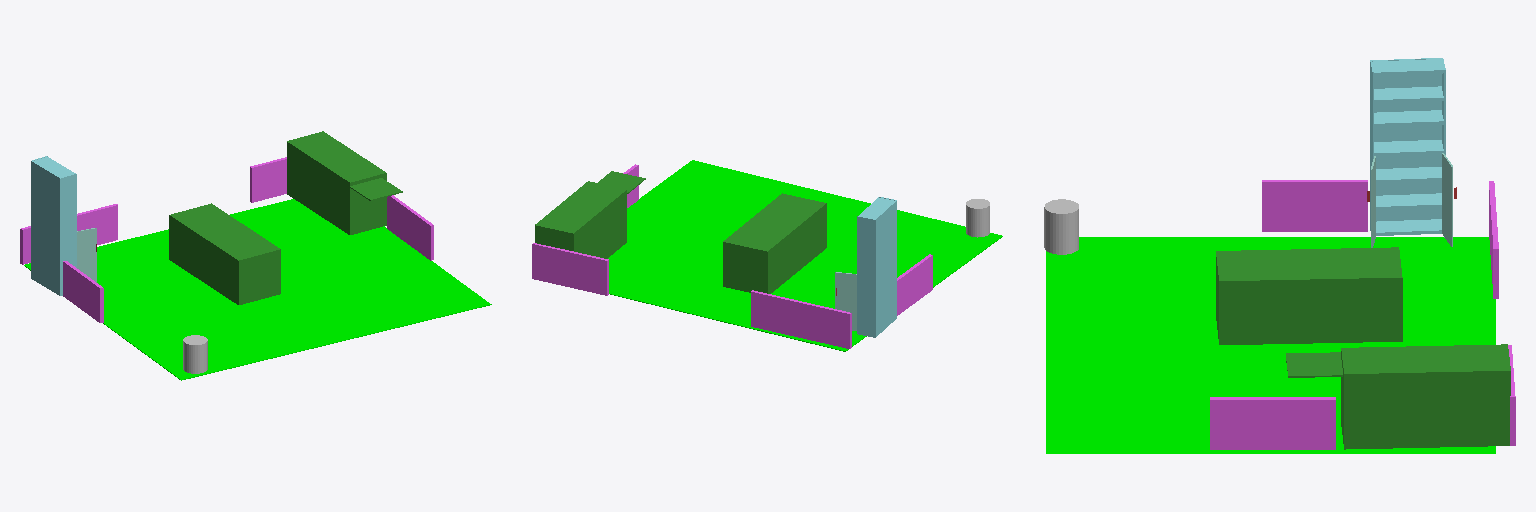
--- Facts derived from the render (not from the file) ---
Views: 3 orthographic renders of the robot side by side, from view 1: azimuth 30°, elevation 25°; view 2: azimuth 150°, elevation 25°; view 3: azimuth 270°, elevation 25°.
Model iai-kitchen with 43 links and 42 joints (3 revolute, 39 fixed), rooted at urdf_main, posed all joints at 0.
Visible links, largest first — view 1: iai_kitchen:kitchen:room_center_link, dinner_table:dinner_table:table_center, kitchen_counter:kitchen_counter:table_center, shelf_hohc:kitchen_cabinet:shelf_back, wall_2_link, wall_3_link, wall_4_link, shelf_hohc:kitchen_cabinet:shelf_left_side, wall_1_link, shelf_hohc:kitchen_cabinet:shelf_door_left, trashcan:trashcan:trashcan_center, dishwasher_table:d_table:table_center; view 2: iai_kitchen:kitchen:room_center_link, dinner_table:dinner_table:table_center, kitchen_counter:kitchen_counter:table_center, wall_4_link, wall_1_link, shelf_hohc:kitchen_cabinet:shelf_back, shelf_hohc:kitchen_cabinet:shelf_right_side, wall_3_link, shelf_hohc:kitchen_cabinet:shelf_door_right, trashcan:trashcan:trashcan_center, dishwasher_table:d_table:table_center; view 3: iai_kitchen:kitchen:room_center_link, dinner_table:dinner_table:table_center, kitchen_counter:kitchen_counter:table_center, wall_2_link, wall_3_link, shelf_hohc:kitchen_cabinet:shelf_back, trashcan:trashcan:trashcan_center, dishwasher_table:d_table:table_center, shelf_hohc:kitchen_cabinet:shelf_floor_6, shelf_hohc:kitchen_cabinet:shelf_floor_4, shelf_hohc:kitchen_cabinet:shelf_floor_3, shelf_hohc:kitchen_cabinet:shelf_floor_5 (+5 smaller).
Boxes of the visible links, x1,y1,x2,y2 form: iai_kitchen:kitchen:room_center_link: (24,199,491,380); dinner_table:dinner_table:table_center: (169,203,280,304); kitchen_counter:kitchen_counter:table_center: (287,131,386,234); shelf_hohc:kitchen_cabinet:shelf_back: (31,161,60,295); wall_2_link: (387,195,433,260); wall_3_link: (63,261,103,322); wall_4_link: (20,204,117,264); shelf_hohc:kitchen_cabinet:shelf_left_side: (61,173,76,295); wall_1_link: (250,157,286,202); shelf_hohc:kitchen_cabinet:shelf_door_left: (77,228,96,282); trashcan:trashcan:trashcan_center: (183,335,207,373); dishwasher_table:d_table:table_center: (350,178,402,200); iai_kitchen:kitchen:room_center_link: (608,160,1002,351); dinner_table:dinner_table:table_center: (723,193,826,293); kitchen_counter:kitchen_counter:table_center: (535,181,626,258); wall_4_link: (751,290,851,348); wall_1_link: (532,243,608,295); shelf_hohc:kitchen_cabinet:shelf_back: (874,200,896,337); shelf_hohc:kitchen_cabinet:shelf_right_side: (857,216,874,337); wall_3_link: (897,254,932,315); shelf_hohc:kitchen_cabinet:shelf_door_right: (835,272,856,330); trashcan:trashcan:trashcan_center: (966,199,989,237); dishwasher_table:d_table:table_center: (598,171,645,193); iai_kitchen:kitchen:room_center_link: (1046,237,1495,453); dinner_table:dinner_table:table_center: (1216,247,1402,344); kitchen_counter:kitchen_counter:table_center: (1341,344,1510,449); wall_2_link: (1210,397,1335,449); wall_3_link: (1262,180,1367,231); shelf_hohc:kitchen_cabinet:shelf_back: (1370,58,1441,221); trashcan:trashcan:trashcan_center: (1044,199,1078,254); dishwasher_table:d_table:table_center: (1286,352,1342,377); shelf_hohc:kitchen_cabinet:shelf_floor_6: (1370,59,1445,75); shelf_hohc:kitchen_cabinet:shelf_floor_4: (1370,110,1445,126); shelf_hohc:kitchen_cabinet:shelf_floor_3: (1370,140,1445,156); shelf_hohc:kitchen_cabinet:shelf_floor_5: (1370,86,1443,103).
Size in the robot's own frame: 5.77 by 5.13 by 2.08 metres.
0 mesh visuals loaded from 3 distinct referenced files (none loaded); not drawn: 3 (reference not matched to a file when rendering).

The robot description file, URDF, robot "iai-kitchen":
<?xml version="1.0" ?>
<robot name="iai-kitchen" version="1.0">
  <material name="table_grey">
    <color rgba="0.255 0.62 0.223 1.0"/>
  </material>
  <material name="round_table_grey">
    <color rgba="0.8 0.8 0.8 1.0"/>
  </material>
  <material name="wall_pink">
    <color rgba="0.95 0.43 0.96 1.0"/>
  </material>
  <material name="shelf_blue">
    <color rgba="0.59 0.88 0.9 1.0"/>
  </material>
  <material name="shelf_door_green">
    <color rgba="0.64 0.87 0.82 1.0"/>
  </material>
  <material name="shelf_openable_handle_red">
    <color rgba="0.74 0.25 0.25 1.0"/>
  </material>
  <material name="shelf_hohc_handle_red">
    <color rgba="0.74 0.25 0.25 1.0"/>
  </material>
  <material name="door_green">
    <color rgba="0.0 0.31 0.22 1.0"/>
  </material>
  <material name="hinge_red">
    <color rgba="0.74 0.25 0.25 1.0"/>
  </material>
  <material name="handle_blue">
    <color rgba="0.3 0.5 0.78 1.0"/>
  </material>
  <material name="bucket_grey">
    <color rgba="0.8 0.8 0.8 1.0"/>
  </material>
  <material name="white">
    <color rgba="1.0 1.0 1.0 1.0"/>
  </material>
  <material name="orange">
    <color rgba="1.0 0.7 0.0 1.0"/>
  </material>
  <material name="handle_white">
    <color rgba="1.0 1.0 1.0 1.0"/>
  </material>
  <material name="bottom_white">
    <color rgba="1.0 1.0 1.0 1.0"/>
  </material>
  <material name="frame_wood">
    <color rgba="0.68 0.63 0.47 1.0"/>
  </material>
  <material name="handle_grey">
    <color rgba="0.7 0.7 0.7 1.0"/>
  </material>
  <material name="dishwasher_table_color">
    <color rgba="0.255 0.62 0.223 1.0"/>
  </material>
  <material name="dishwasher_robocup_table_color">
    <color rgba="0.255 0.62 0.223 1.0"/>
  </material>
  <material name="color_grey">
    <color rgba="0.8 0.8 0.8 1.0"/>
  </material>
  <material name="color_red">
    <color rgba="1.0 0.0 0.0 1.0"/>
  </material>
  <material name="color_blue">
    <color rgba="0.0 0.0 1.0 1.0"/>
  </material>
  <material name="simple_couch_color_grey">
    <color rgba="0.8 0.8 0.8 1.0"/>
  </material>
  <material name="simple_couch_color_red">
    <color rgba="1.0 0.0 0.0 1.0"/>
  </material>
  <material name="simple_couch_color_blue">
    <color rgba="0.0 0.0 1.0 1.0"/>
  </material>
  <material name="trashcan_color">
    <color rgba="0.8 0.8 0.8 1.0"/>
  </material>
  <material name="chair_color">
    <color rgba="0.0 0.0 0.5 1.0"/>
  </material>
  <material name="coathanger_color">
    <color rgba="0.255 0.62 0.223 1.0"/>
  </material>
  <material name="lamp_color">
    <color rgba="0.8 0.8 0.8 1.0"/>
  </material>
  <link name="dinner_table:dinner_table:table_center">
    <inertial>
      <origin xyz="0.0 0.0 0.0" rpy="0.0 0.0 0.0"/>
      <mass value="1.0"/>
      <inertia ixx="0.1" ixy="0.0" ixz="0.0" iyy="0.1" iyz="0.0" izz="0.1"/>
    </inertial>
    <visual>
      <origin xyz="0.0 0.0 -0.385" rpy="0.0 0.0 0.0"/>
      <geometry>
        <box size="0.782 2.0 0.77"/>
      </geometry>
      <material name="table_grey"/>
    </visual>
    <collision>
      <origin xyz="0.0 0.0 -0.385" rpy="0.0 0.0 0.0"/>
      <geometry>
        <box size="0.782 2.0 0.77"/>
      </geometry>
    </collision>
  </link>
  <link name="dinner_table:dinner_table:table_origin"/>
  <link name="dinner_table:dinner_table:table_front_edge_center"/>
  <joint name="dinner_table:dinner_table:table_origin_joint" type="fixed">
    <origin xyz="8.1 5.73 0.0" rpy="0.0 0.0 3.189"/>
    <parent link="urdf_offset"/>
    <child link="dinner_table:dinner_table:table_origin"/>
  </joint>
  <joint name="dinner_table:dinner_table:center_joint" type="fixed">
    <origin xyz="0.391 1.0 0.77" rpy="0.0 0.0 0.0"/>
    <parent link="dinner_table:dinner_table:table_origin"/>
    <child link="dinner_table:dinner_table:table_center"/>
  </joint>
  <joint name="dinner_table:dinner_table:table_front_edge_center_joint" type="fixed">
    <origin xyz="0.0 1.0 0.77" rpy="0.0 0.0 0.0"/>
    <parent link="dinner_table:dinner_table:table_origin"/>
    <child link="dinner_table:dinner_table:table_front_edge_center"/>
  </joint>
  <link name="kitchen_counter:kitchen_counter:table_center">
    <inertial>
      <origin xyz="0.0 0.0 0.0" rpy="0.0 0.0 0.0"/>
      <mass value="1.0"/>
      <inertia ixx="0.1" ixy="0.0" ixz="0.0" iyy="0.1" iyz="0.0" izz="0.1"/>
    </inertial>
    <visual>
      <origin xyz="0.0 0.0 -0.4525" rpy="0.0 0.0 0.0"/>
      <geometry>
        <box size="0.68 1.82 0.905"/>
      </geometry>
      <material name="table_grey"/>
    </visual>
    <collision>
      <origin xyz="0.0 0.0 -0.4525" rpy="0.0 0.0 0.0"/>
      <geometry>
        <box size="0.68 1.82 0.905"/>
      </geometry>
    </collision>
  </link>
  <link name="kitchen_counter:kitchen_counter:table_origin"/>
  <link name="kitchen_counter:kitchen_counter:table_front_edge_center"/>
  <joint name="kitchen_counter:kitchen_counter:table_origin_joint" type="fixed">
    <origin xyz="10.2 5.06 0.0" rpy="0.0 0.0 0.05"/>
    <parent link="urdf_offset"/>
    <child link="kitchen_counter:kitchen_counter:table_origin"/>
  </joint>
  <joint name="kitchen_counter:kitchen_counter:center_joint" type="fixed">
    <origin xyz="0.34 0.91 0.905" rpy="0.0 0.0 0.0"/>
    <parent link="kitchen_counter:kitchen_counter:table_origin"/>
    <child link="kitchen_counter:kitchen_counter:table_center"/>
  </joint>
  <joint name="kitchen_counter:kitchen_counter:table_front_edge_center_joint" type="fixed">
    <origin xyz="0.0 0.91 0.905" rpy="0.0 0.0 0.0"/>
    <parent link="kitchen_counter:kitchen_counter:table_origin"/>
    <child link="kitchen_counter:kitchen_counter:table_front_edge_center"/>
  </joint>
  <joint name="wall_1_center_joint" type="fixed">
    <origin xyz="10.14 6.91 0.3" rpy="0 0 0"/>
    <parent link="urdf_offset"/>
    <child link="wall_1_link"/>
  </joint>
  <link name="wall_1_link">
    <inertial>
      <origin xyz="0.0 0.0 0.0" rpy="0.0 0.0 0.0"/>
      <mass value="1.0"/>
      <inertia ixx="0.1" ixy="0.0" ixz="0.0" iyy="0.1" iyz="0.0" izz="0.1"/>
    </inertial>
    <visual>
      <origin xyz="0.0 0.0 0.0" rpy="0.0 0.0 0.03029375991877435"/>
      <geometry>
        <box size="1.3206059215375345 0.06 0.6"/>
      </geometry>
      <material name="wall_pink"/>
    </visual>
    <collision>
      <origin xyz="0.0 0.0 0.0" rpy="0.0 0.0 0.03029375991877435"/>
      <geometry>
        <box size="1.3206059215375345 0.06 0.6"/>
      </geometry>
    </collision>
  </link>
  <joint name="wall_2_center_joint" type="fixed">
    <origin xyz="10.85 4.3149999999999995 0.3" rpy="0 0 0"/>
    <parent link="urdf_offset"/>
    <child link="wall_2_link"/>
  </joint>
  <link name="wall_2_link">
    <inertial>
      <origin xyz="0.0 0.0 0.0" rpy="0.0 0.0 0.0"/>
      <mass value="1.0"/>
      <inertia ixx="0.1" ixy="0.0" ixz="0.0" iyy="0.1" iyz="0.0" izz="0.1"/>
    </inertial>
    <visual>
      <origin xyz="0.0 0.0 0.0" rpy="0.0 0.0 1.5707963267948966"/>
      <geometry>
        <box size="1.37 0.06 0.6"/>
      </geometry>
      <material name="wall_pink"/>
    </visual>
    <collision>
      <origin xyz="0.0 0.0 0.0" rpy="0.0 0.0 1.5707963267948966"/>
      <geometry>
        <box size="1.37 0.06 0.6"/>
      </geometry>
    </collision>
  </link>
  <joint name="wall_3_center_joint" type="fixed">
    <origin xyz="5.25 4.775 0.3" rpy="0 0 0"/>
    <parent link="urdf_offset"/>
    <child link="wall_3_link"/>
  </joint>
  <link name="wall_3_link">
    <inertial>
      <origin xyz="0.0 0.0 0.0" rpy="0.0 0.0 0.0"/>
      <mass value="1.0"/>
      <inertia ixx="0.1" ixy="0.0" ixz="0.0" iyy="0.1" iyz="0.0" izz="0.1"/>
    </inertial>
    <visual>
      <origin xyz="0.0 0.0 0.0" rpy="0.0 0.0 1.5707963267948966"/>
      <geometry>
        <box size="1.1499999999999995 0.06 0.6"/>
      </geometry>
      <material name="wall_pink"/>
    </visual>
    <collision>
      <origin xyz="0.0 0.0 0.0" rpy="0.0 0.0 1.5707963267948966"/>
      <geometry>
        <box size="1.1499999999999995 0.06 0.6"/>
      </geometry>
    </collision>
  </link>
  <joint name="wall_4_center_joint" type="fixed">
    <origin xyz="6.125 6.725 0.3" rpy="0 0 0"/>
    <parent link="urdf_offset"/>
    <child link="wall_4_link"/>
  </joint>
  <link name="wall_4_link">
    <inertial>
      <origin xyz="0.0 0.0 0.0" rpy="0.0 0.0 0.0"/>
      <mass value="1.0"/>
      <inertia ixx="0.1" ixy="0.0" ixz="0.0" iyy="0.1" iyz="0.0" izz="0.1"/>
    </inertial>
    <visual>
      <origin xyz="0.0 0.0 0.0" rpy="0.0 0.0 0.02856365783875954"/>
      <geometry>
        <box size="1.7507141400011597 0.06 0.6"/>
      </geometry>
      <material name="wall_pink"/>
    </visual>
    <collision>
      <origin xyz="0.0 0.0 0.0" rpy="0.0 0.0 0.02856365783875954"/>
      <geometry>
        <box size="1.7507141400011597 0.06 0.6"/>
      </geometry>
    </collision>
  </link>
  <joint name="world_iai_kitchen:kitchen:room_joint" type="fixed">
    <origin xyz="8.1 4.3 -0.05" rpy="0.0 0.0 0.0"/>
    <parent link="urdf_offset"/>
    <child link="iai_kitchen:kitchen:room_center_link"/>
  </joint>
  <link name="iai_kitchen:kitchen:room_center_link">
    <inertial>
      <origin xyz="0.0 0.0 0.0" rpy="0.0 0.0 0.0"/>
      <mass value="1.0"/>
      <inertia ixx="0.1" ixy="0.0" ixz="0.0" iyy="0.1" iyz="0.0" izz="0.1"/>
    </inertial>
    <visual>
      <geometry>
        <box size="5.57 4.9 0.01"/>
      </geometry>
      <material name="iai_kitchen:kitchen:color">
        <color rgba="0.0 1.0 0.0 0.1"/>
      </material>
    </visual>
    <collision>
      <geometry>
        <box size="5.57 4.9 0.01"/>
      </geometry>
    </collision>
  </link>
  <joint name="room_kitchen_living_room_entry_exit:entry_exit:connection_joint" type="fixed">
    <origin xyz="0.7100000000000009 -4.08 0.0" rpy="0.0 0.0 0.0"/>
    <parent link="iai_kitchen:kitchen:room_center_link"/>
    <child link="kitchen_living_room_entry_exit:entry_exit:link"/>
  </joint>
  <link name="kitchen_living_room_entry_exit:entry_exit:link"/>
  <joint name="room_kitchen_office_entry_exit:entry_exit:connection_joint" type="fixed">
    <origin xyz="-2.76 -0.7199999999999998 0.0" rpy="0.0 0.0 0.0"/>
    <parent link="iai_kitchen:kitchen:room_center_link"/>
    <child link="kitchen_office_entry_exit:entry_exit:link"/>
  </joint>
  <link name="kitchen_office_entry_exit:entry_exit:link"/>
  <link name="dishwasher_main">
    <inertial>
      <origin xyz="0.0 0.0 0.0" rpy="0.0 0.0 0.0"/>
      <mass value="1.0"/>
      <inertia ixx="1.0" ixy="0.0" ixz="0.0" iyy="1.0" iyz="0.0" izz="1.0"/>
    </inertial>
  </link>
  <joint name="dishwasher_main" type="fixed">
    <origin xyz="10.5 4.77 0.0" rpy="0.0 0.0 3.19"/>
    <parent link="urdf_offset"/>
    <child link="dishwasher_main"/>
  </joint>
  <link name="sink_area_dish_washer_main">
    <inertial>
      <origin xyz="0.0 0.0 0.0" rpy="0.0 0.0 0.0"/>
      <mass value="1.0"/>
      <inertia ixx="1.0" ixy="0.0" ixz="0.0" iyy="1.0" iyz="0.0" izz="1.0"/>
    </inertial>
    <visual>
      <origin xyz="0.0 0.0 0.0" rpy="0.0 0.0 0.0"/>
      <geometry>
        <mesh filename="package://iai_kitchen/meshes/misc/DishWasher.obj"/>
      </geometry>
    </visual>
    <collision>
      <origin xyz="0.0 0.0 0.0" rpy="0.0 0.0 0.0"/>
      <geometry>
        <mesh filename="package://iai_kitchen/meshes/misc/DishWasher.obj"/>
      </geometry>
    </collision>
  </link>
  <link name="sink_area_dish_washer_door">
    <inertial>
      <origin xyz="0.0 0.0 0.0" rpy="0.0 0.0 0.0"/>
      <mass value="1.0"/>
      <inertia ixx="1.0" ixy="0.0" ixz="0.0" iyy="1.0" iyz="0.0" izz="1.0"/>
    </inertial>
    <visual>
      <origin xyz="0.0 0.0 0.0" rpy="1.57079632679 0.0 0.0"/>
      <geometry>
        <mesh filename="package://iai_kitchen/meshes/misc/DishWasherDoor.obj"/>
      </geometry>
    </visual>
    <collision>
      <origin xyz="0.0 0.0 0.0" rpy="1.57079632679 0.0 0.0"/>
      <geometry>
        <mesh filename="package://iai_kitchen/meshes/misc/DishWasherDoor.obj"/>
      </geometry>
    </collision>
  </link>
  <gazebo reference="sink_area_dish_washer_door">
    <turnGravityOff>true</turnGravityOff>
  </gazebo>
  <link name="sink_area_dish_washer_door_handle">
    <inertial>
      <origin xyz="0.1 0.0 0.0" rpy="0.0 0.0 0.0"/>
      <mass value="1.0"/>
      <inertia ixx="1.0" ixy="0.0" ixz="0.0" iyy="1.0" iyz="0.0" izz="1.0"/>
    </inertial>
    <visual>
      <origin xyz="0.01 0.0 0.0" rpy="0.0 0.0 0.0"/>
      <geometry>
        <mesh filename="package://iai_kitchen/meshes/handles/Handle60.obj"/>
      </geometry>
    </visual>
    <collision>
      <origin xyz="0.01 0.0 0.0" rpy="0.0 0.0 0.0"/>
      <geometry>
        <mesh filename="package://iai_kitchen/meshes/handles/Handle60.obj"/>
      </geometry>
    </collision>
  </link>
  <gazebo reference="sink_area_dish_washer_door_handle">
    <turnGravityOff>true</turnGravityOff>
  </gazebo>
  <link name="dishwasher_tab"/>
  <link name="dishwasher_table:d_table:d_table_origin"/>
  <link name="dishwasher_table:d_table:table_front_edge_center"/>
  <link name="dishwasher_table:d_table:table_center">
    <visual>
      <origin xyz="0.0 0.0 0.0" rpy="0.0 0.0 0.0"/>
      <geometry>
        <box size="0.593 0.6 0.02"/>
      </geometry>
      <material name="dishwasher_robocup_table_color"/>
    </visual>
    <collision>
      <origin xyz="0.0 0.0 0.0" rpy="0.0 0.0 0.0"/>
      <geometry>
        <box size="0.593 0.6 0.02"/>
      </geometry>
    </collision>
  </link>
  <joint name="dishwasher_tab_joint" type="fixed">
    <origin xyz="-0.1 0.1 0.15" rpy="0.0 0.0 0.0"/>
    <parent link="sink_area_dish_washer_door_handle"/>
    <child link="dishwasher_tab"/>
  </joint>
  <joint name="sink_area_dish_washer_main_joint" type="fixed">
    <origin xyz="0.0 0.0 0.44" rpy="0.0 0.0 0.0"/>
    <axis xyz="1.0 0.0 0.0"/>
    <parent link="dishwasher_main"/>
    <child link="sink_area_dish_washer_main"/>
  </joint>
  <joint name="sink_area_dish_washer_door_joint" type="revolute">
    <origin xyz="0.27 0.0 -0.325" rpy="-1.57079632679 0.03 0.0"/>
    <axis xyz="0.0 0.0 1.0"/>
    <parent link="sink_area_dish_washer_main"/>
    <child link="sink_area_dish_washer_door"/>
    <limit effort="300.0" lower="0.0" upper="1.57079632679" velocity="10.0"/>
  </joint>
  <joint name="sink_area_dish_washer_door_handle_joint" type="fixed">
    <origin xyz="0.0625 -0.6625 0.0" rpy="-1.57079632679 0.0 0.0"/>
    <parent link="sink_area_dish_washer_door"/>
    <child link="sink_area_dish_washer_door_handle"/>
  </joint>
  <joint name="dish_washer_table_main_joint" type="fixed">
    <origin xyz="0.0 0.0 0.3971" rpy="0.0 0.0 3.141592653589793"/>
    <parent link="sink_area_dish_washer_main"/>
    <child link="dishwasher_table:d_table:d_table_origin"/>
  </joint>
  <joint name="dish_washer_table_center_joint" type="fixed">
    <origin xyz="-0.3 0.0 0.0" rpy="0.0 0.0 0.0"/>
    <parent link="dishwasher_table:d_table:d_table_origin"/>
    <child link="dishwasher_table:d_table:table_front_edge_center"/>
  </joint>
  <joint name="dish_washer_table_edge_joint" type="fixed">
    <origin xyz="0.0 0.0 0.0" rpy="0.0 0.0 0.0"/>
    <parent link="dishwasher_table:d_table:d_table_origin"/>
    <child link="dishwasher_table:d_table:table_center"/>
  </joint>
  <link name="shelf_hohc:kitchen_cabinet:shelf_origin"/>
  <link name="shelf_hohc:kitchen_cabinet:shelf_center"/>
  <link name="shelf_hohc:kitchen_cabinet:shelf_base_center"/>
  <joint name="shelf_hohc:kitchen_cabinet:shelf_origin_joint" type="fixed">
    <origin xyz="5.42 6.2 0.0" rpy="0.0 0.0 3.23"/>
    <parent link="urdf_offset"/>
    <child link="shelf_hohc:kitchen_cabinet:shelf_origin"/>
  </joint>
  <joint name="shelf_hohc:kitchen_cabinet:shelf_center_joint" type="fixed">
    <origin xyz="0.15 0.4 1.01" rpy="0.0 0.0 0.0"/>
    <parent link="shelf_hohc:kitchen_cabinet:shelf_origin"/>
    <child link="shelf_hohc:kitchen_cabinet:shelf_center"/>
  </joint>
  <joint name="shelf_hohc:kitchen_cabinet:shelf_base_center_joint" type="fixed">
    <origin xyz="0.15 0.4 0.0" rpy="0.0 0.0 0.0"/>
    <parent link="shelf_hohc:kitchen_cabinet:shelf_origin"/>
    <child link="shelf_hohc:kitchen_cabinet:shelf_base_center"/>
  </joint>
  <link name="shelf_hohc:kitchen_cabinet:shelf_back">
    <inertial>
      <origin xyz="0.0 0.0 0.0" rpy="0.0 0.0 0.0"/>
      <mass value="1.0"/>
      <inertia ixx="0.1" ixy="0.0" ixz="0.0" iyy="0.1" iyz="0.0" izz="0.1"/>
    </inertial>
    <visual>
      <origin xyz="0.0 0.0 0.0" rpy="0.0 0.0 0.0"/>
      <geometry>
        <box size="0.02 0.8 2.02"/>
      </geometry>
      <material name="shelf_blue"/>
    </visual>
    <collision>
      <origin xyz="0.0 0.0 0.0" rpy="0.0 0.0 0.0"/>
      <geometry>
        <box size="0.02 0.8 2.02"/>
      </geometry>
    </collision>
  </link>
  <joint name="shelf_hohc:kitchen_cabinet:shelf_back:joint" type="fixed">
    <origin xyz="0.3 0.4 1.01" rpy="0.0 0.0 0.0"/>
    <parent link="shelf_hohc:kitchen_cabinet:shelf_origin"/>
    <child link="shelf_hohc:kitchen_cabinet:shelf_back"/>
  </joint>
  <link name="shelf_hohc:kitchen_cabinet:shelf_right_side">
    <inertial>
      <origin xyz="0.0 0.0 0.0" rpy="0.0 0.0 0.0"/>
      <mass value="1.0"/>
      <inertia ixx="0.1" ixy="0.0" ixz="0.0" iyy="0.1" iyz="0.0" izz="0.1"/>
    </inertial>
    <visual>
      <origin xyz="0.0 0.0 0.0" rpy="0.0 0.0 0.0"/>
      <geometry>
        <box size="0.3 0.02 2.02"/>
      </geometry>
      <material name="shelf_blue"/>
    </visual>
    <collision>
      <origin xyz="0.0 0.0 0.0" rpy="0.0 0.0 0.0"/>
      <geometry>
        <box size="0.3 0.02 2.02"/>
      </geometry>
    </collision>
  </link>
  <joint name="shelf_hohc:kitchen_cabinet:shelf_right_side:joint" type="fixed">
    <origin xyz="0.15 0.01 1.01" rpy="0.0 0.0 0.0"/>
    <parent link="shelf_hohc:kitchen_cabinet:shelf_origin"/>
    <child link="shelf_hohc:kitchen_cabinet:shelf_right_side"/>
  </joint>
  <link name="shelf_hohc:kitchen_cabinet:shelf_left_side">
    <inertial>
      <origin xyz="0.0 0.0 0.0" rpy="0.0 0.0 0.0"/>
      <mass value="1.0"/>
      <inertia ixx="0.1" ixy="0.0" ixz="0.0" iyy="0.1" iyz="0.0" izz="0.1"/>
    </inertial>
    <visual>
      <origin xyz="0.0 0.0 0.0" rpy="0.0 0.0 0.0"/>
      <geometry>
        <box size="0.3 0.02 2.02"/>
      </geometry>
      <material name="shelf_blue"/>
    </visual>
    <collision>
      <origin xyz="0.0 0.0 0.0" rpy="0.0 0.0 0.0"/>
      <geometry>
        <box size="0.3 0.02 2.02"/>
      </geometry>
    </collision>
  </link>
  <joint name="shelf_hohc:kitchen_cabinet:shelf_left_side:joint" type="fixed">
    <origin xyz="0.15 0.79 1.01" rpy="0.0 0.0 0.0"/>
    <parent link="shelf_hohc:kitchen_cabinet:shelf_origin"/>
    <child link="shelf_hohc:kitchen_cabinet:shelf_left_side"/>
  </joint>
  <link name="shelf_hohc:kitchen_cabinet:shelf_floor_0">
    <inertial>
      <origin xyz="0.0 0.0 0.0" rpy="0.0 0.0 0.0"/>
      <mass value="1.0"/>
      <inertia ixx="0.1" ixy="0.0" ixz="0.0" iyy="0.1" iyz="0.0" izz="0.1"/>
    </inertial>
    <visual>
      <origin xyz="0.0 0.0 -0.02" rpy="0.0 0.0 0.0"/>
      <geometry>
        <box size="0.3 0.8 0.04"/>
      </geometry>
      <material name="shelf_blue"/>
    </visual>
    <collision>
      <origin xyz="0.0 0.0 -0.02" rpy="0.0 0.0 0.0"/>
      <geometry>
        <box size="0.3 0.8 0.04"/>
      </geometry>
    </collision>
  </link>
  <joint name="shelf_hohc:kitchen_cabinet:shelf_floor_0:joint" type="fixed">
    <origin xyz="0.0 0.0 0.09" rpy="0.0 0.0 0.0"/>
    <parent link="shelf_hohc:kitchen_cabinet:shelf_base_center"/>
    <child link="shelf_hohc:kitchen_cabinet:shelf_floor_0"/>
  </joint>
  <link name="shelf_hohc:kitchen_cabinet:shelf_floor_1">
    <inertial>
      <origin xyz="0.0 0.0 0.0" rpy="0.0 0.0 0.0"/>
      <mass value="1.0"/>
      <inertia ixx="0.1" ixy="0.0" ixz="0.0" iyy="0.1" iyz="0.0" izz="0.1"/>
    </inertial>
    <visual>
      <origin xyz="0.0 0.0 -0.02" rpy="0.0 0.0 0.0"/>
      <geometry>
        <box size="0.3 0.8 0.04"/>
      </geometry>
      <material name="shelf_blue"/>
    </visual>
    <collision>
      <origin xyz="0.0 0.0 -0.02" rpy="0.0 0.0 0.0"/>
      <geometry>
        <box size="0.3 0.8 0.04"/>
      </geometry>
    </collision>
  </link>
  <joint name="shelf_hohc:kitchen_cabinet:shelf_floor_1:joint" type="fixed">
    <origin xyz="0.0 0.0 0.4" rpy="0.0 0.0 0.0"/>
    <parent link="shelf_hohc:kitchen_cabinet:shelf_base_center"/>
    <child link="shelf_hohc:kitchen_cabinet:shelf_floor_1"/>
  </joint>
  <link name="shelf_hohc:kitchen_cabinet:shelf_floor_2">
    <inertial>
      <origin xyz="0.0 0.0 0.0" rpy="0.0 0.0 0.0"/>
      <mass value="1.0"/>
      <inertia ixx="0.1" ixy="0.0" ixz="0.0" iyy="0.1" iyz="0.0" izz="0.1"/>
    </inertial>
    <visual>
      <origin xyz="0.0 0.0 -0.02" rpy="0.0 0.0 0.0"/>
      <geometry>
        <box size="0.3 0.8 0.04"/>
      </geometry>
      <material name="shelf_blue"/>
    </visual>
    <collision>
      <origin xyz="0.0 0.0 -0.02" rpy="0.0 0.0 0.0"/>
      <geometry>
        <box size="0.3 0.8 0.04"/>
      </geometry>
    </collision>
  </link>
  <joint name="shelf_hohc:kitchen_cabinet:shelf_floor_2:joint" type="fixed">
    <origin xyz="0.0 0.0 0.72" rpy="0.0 0.0 0.0"/>
    <parent link="shelf_hohc:kitchen_cabinet:shelf_base_center"/>
    <child link="shelf_hohc:kitchen_cabinet:shelf_floor_2"/>
  </joint>
  <link name="shelf_hohc:kitchen_cabinet:shelf_floor_3">
    <inertial>
      <origin xyz="0.0 0.0 0.0" rpy="0.0 0.0 0.0"/>
      <mass value="1.0"/>
      <inertia ixx="0.1" ixy="0.0" ixz="0.0" iyy="0.1" iyz="0.0" izz="0.1"/>
    </inertial>
    <visual>
      <origin xyz="0.0 0.0 -0.02" rpy="0.0 0.0 0.0"/>
      <geometry>
        <box size="0.3 0.8 0.04"/>
      </geometry>
      <material name="shelf_blue"/>
    </visual>
    <collision>
      <origin xyz="0.0 0.0 -0.02" rpy="0.0 0.0 0.0"/>
      <geometry>
        <box size="0.3 0.8 0.04"/>
      </geometry>
    </collision>
  </link>
  <joint name="shelf_hohc:kitchen_cabinet:shelf_floor_3:joint" type="fixed">
    <origin xyz="0.0 0.0 1.045" rpy="0.0 0.0 0.0"/>
    <parent link="shelf_hohc:kitchen_cabinet:shelf_base_center"/>
    <child link="shelf_hohc:kitchen_cabinet:shelf_floor_3"/>
  </joint>
  <link name="shelf_hohc:kitchen_cabinet:shelf_floor_4">
    <inertial>
      <origin xyz="0.0 0.0 0.0" rpy="0.0 0.0 0.0"/>
      <mass value="1.0"/>
      <inertia ixx="0.1" ixy="0.0" ixz="0.0" iyy="0.1" iyz="0.0" izz="0.1"/>
    </inertial>
    <visual>
      <origin xyz="0.0 0.0 -0.02" rpy="0.0 0.0 0.0"/>
      <geometry>
        <box size="0.3 0.8 0.04"/>
      </geometry>
      <material name="shelf_blue"/>
    </visual>
    <collision>
      <origin xyz="0.0 0.0 -0.02" rpy="0.0 0.0 0.0"/>
      <geometry>
        <box size="0.3 0.8 0.04"/>
      </geometry>
    </collision>
  </link>
  <joint name="shelf_hohc:kitchen_cabinet:shelf_floor_4:joint" type="fixed">
    <origin xyz="0.0 0.0 1.4" rpy="0.0 0.0 0.0"/>
    <parent link="shelf_hohc:kitchen_cabinet:shelf_base_center"/>
    <child link="shelf_hohc:kitchen_cabinet:shelf_floor_4"/>
  </joint>
  <link name="shelf_hohc:kitchen_cabinet:shelf_floor_5">
    <inertial>
      <origin xyz="0.0 0.0 0.0" rpy="0.0 0.0 0.0"/>
      <mass value="1.0"/>
      <inertia ixx="0.1" ixy="0.0" ixz="0.0" iyy="0.1" iyz="0.0" izz="0.1"/>
    </inertial>
    <visual>
      <origin xyz="0.0 0.0 -0.02" rpy="0.0 0.0 0.0"/>
      <geometry>
        <box size="0.3 0.8 0.04"/>
      </geometry>
      <material name="shelf_blue"/>
    </visual>
    <collision>
      <origin xyz="0.0 0.0 -0.02" rpy="0.0 0.0 0.0"/>
      <geometry>
        <box size="0.3 0.8 0.04"/>
      </geometry>
    </collision>
  </link>
  <joint name="shelf_hohc:kitchen_cabinet:shelf_floor_5:joint" type="fixed">
    <origin xyz="0.0 0.0 1.685" rpy="0.0 0.0 0.0"/>
    <parent link="shelf_hohc:kitchen_cabinet:shelf_base_center"/>
    <child link="shelf_hohc:kitchen_cabinet:shelf_floor_5"/>
  </joint>
  <link name="shelf_hohc:kitchen_cabinet:shelf_floor_6">
    <inertial>
      <origin xyz="0.0 0.0 0.0" rpy="0.0 0.0 0.0"/>
      <mass value="1.0"/>
      <inertia ixx="0.1" ixy="0.0" ixz="0.0" iyy="0.1" iyz="0.0" izz="0.1"/>
    </inertial>
    <visual>
      <origin xyz="0.0 0.0 -0.02" rpy="0.0 0.0 0.0"/>
      <geometry>
        <box size="0.3 0.8 0.04"/>
      </geometry>
      <material name="shelf_blue"/>
    </visual>
    <collision>
      <origin xyz="0.0 0.0 -0.02" rpy="0.0 0.0 0.0"/>
      <geometry>
        <box size="0.3 0.8 0.04"/>
      </geometry>
    </collision>
  </link>
  <joint name="shelf_hohc:kitchen_cabinet:shelf_floor_6:joint" type="fixed">
    <origin xyz="0.0 0.0 2.015" rpy="0.0 0.0 0.0"/>
    <parent link="shelf_hohc:kitchen_cabinet:shelf_base_center"/>
    <child link="shelf_hohc:kitchen_cabinet:shelf_floor_6"/>
  </joint>
  <link name="shelf_hohc:kitchen_cabinet:shelf_door_right">
    <inertial>
      <origin xyz="0.0 0.0 0.0" rpy="0.0 0.0 0.0"/>
      <mass value="1.0"/>
      <inertia ixx="0.1" ixy="0.0" ixz="0.0" iyy="0.1" iyz="0.0" izz="0.1"/>
    </inertial>
    <visual>
      <origin xyz="0.0 0.18 0.0" rpy="0.0 0.0 0.0"/>
      <geometry>
        <box size="0.02 0.38 0.97"/>
      </geometry>
      <material name="shelf_door_green"/>
    </visual>
    <collision>
      <origin xyz="0.0 0.18 0.0" rpy="0.0 0.0 0.0"/>
      <geometry>
        <box size="0.02 0.38 0.97"/>
      </geometry>
    </collision>
  </link>
  <link name="shelf_hohc:kitchen_cabinet:shelf_door_right:handle">
    <inertial>
      <origin xyz="0.0 0.0 0.0" rpy="0.0 0.0 0.0"/>
      <mass value="1.0"/>
      <inertia ixx="0.1" ixy="0.0" ixz="0.0" iyy="0.1" iyz="0.0" izz="0.1"/>
    </inertial>
    <visual>
      <origin xyz="0.0 0.0 0.0" rpy="0.0 0.0 0.0"/>
      <geometry>
        <box size="0.035 0.005 0.135"/>
      </geometry>
      <material name="shelf_hohc_handle_red"/>
    </visual>
    <collision>
      <origin xyz="0.0 0.0 0.0" rpy="0.0 0.0 0.0"/>
      <geometry>
        <box size="0.035 0.005 0.135"/>
      </geometry>
    </collision>
  </link>
  <joint name="shelf_hohc:kitchen_cabinet:shelf_door_right:handle_joint" type="fixed">
    <origin xyz="-0.037500000000000006 0.3525 0.15249999999999997" rpy="0.0 0.0 0.0"/>
    <axis xyz="0.0 0.0 1.0"/>
    <parent link="shelf_hohc:kitchen_cabinet:shelf_door_right"/>
    <child link="shelf_hohc:kitchen_cabinet:shelf_door_right:handle"/>
  </joint>
  <joint name="shelf_hohc:kitchen_cabinet:shelf_door_right:joint" type="revolute">
    <origin xyz="-0.13999999999999999 0.02 -0.48" rpy="0.0 0.0 1.77"/>
    <axis xyz="0.0 0.0 1.0"/>
    <parent link="shelf_hohc:kitchen_cabinet:shelf_right_side"/>
    <child link="shelf_hohc:kitchen_cabinet:shelf_door_right"/>
    <limit effort="30.0" lower="0.0" upper="1.7" velocity="1.0"/>
  </joint>
  <link name="shelf_hohc:kitchen_cabinet:shelf_door_left">
    <inertial>
      <origin xyz="0.0 0.0 0.0" rpy="0.0 0.0 0.0"/>
      <mass value="1.0"/>
      <inertia ixx="0.1" ixy="0.0" ixz="0.0" iyy="0.1" iyz="0.0" izz="0.1"/>
    </inertial>
    <visual>
      <origin xyz="0.0 -0.18 0.0" rpy="0.0 0.0 0.0"/>
      <geometry>
        <box size="0.02 0.38 0.97"/>
      </geometry>
      <material name="shelf_door_green"/>
    </visual>
    <collision>
      <origin xyz="0.0 -0.18 0.0" rpy="0.0 0.0 0.0"/>
      <geometry>
        <box size="0.02 0.38 0.97"/>
      </geometry>
    </collision>
  </link>
  <link name="shelf_hohc:kitchen_cabinet:shelf_door_left:handle">
    <inertial>
      <origin xyz="0.0 0.0 0.0" rpy="0.0 0.0 0.0"/>
      <mass value="1.0"/>
      <inertia ixx="0.1" ixy="0.0" ixz="0.0" iyy="0.1" iyz="0.0" izz="0.1"/>
    </inertial>
    <visual>
      <origin xyz="0.0 0.0 0.0" rpy="0.0 0.0 0.0"/>
      <geometry>
        <box size="0.035 0.005 0.135"/>
      </geometry>
      <material name="shelf_hohc_handle_red"/>
    </visual>
    <collision>
      <origin xyz="0.0 0.0 0.0" rpy="0.0 0.0 0.0"/>
      <geometry>
        <box size="0.035 0.005 0.135"/>
      </geometry>
    </collision>
  </link>
  <joint name="shelf_hohc:kitchen_cabinet:shelf_door_left:handle_joint" type="fixed">
    <origin xyz="-0.037500000000000006 -0.3525 0.15249999999999997" rpy="0.0 0.0 0.0"/>
    <axis xyz="0.0 0.0 1.0"/>
    <parent link="shelf_hohc:kitchen_cabinet:shelf_door_left"/>
    <child link="shelf_hohc:kitchen_cabinet:shelf_door_left:handle"/>
  </joint>
  <joint name="shelf_hohc:kitchen_cabinet:shelf_door_left:joint" type="revolute">
    <origin xyz="-0.13999999999999999 -0.02 -0.48" rpy="0.0 0.0 -1.77"/>
    <axis xyz="0.0 0.0 1.0"/>
    <parent link="shelf_hohc:kitchen_cabinet:shelf_left_side"/>
    <child link="shelf_hohc:kitchen_cabinet:shelf_door_left"/>
    <limit effort="30.0" lower="-1.7" upper="0.0" velocity="1.0"/>
  </joint>
  <link name="trashcan:trashcan:trashcan_center">
    <inertial>
      <origin xyz="0.0 0.0 0.0" rpy="0.0 0.0 0.0"/>
      <mass value="1.0"/>
      <inertia ixx="0.1" ixy="0.0" ixz="0.0" iyy="0.1" iyz="0.0" izz="0.1"/>
    </inertial>
    <visual>
      <origin xyz="0.0 0.0 -0.245" rpy="0.0 0.0 0.0"/>
      <geometry>
        <cylinder radius="0.19" length="0.49"/>
      </geometry>
      <material name="trashcan_color"/>
    </visual>
    <collision>
      <origin xyz="0.0 0.0 -0.245" rpy="0.0 0.0 0.0"/>
      <geometry>
        <cylinder radius="0.19" length="0.49"/>
      </geometry>
    </collision>
  </link>
  <link name="trashcan:trashcan:trashcan_origin"/>
  <link name="trashcan:trashcan:trashcan_front_edge_center"/>
  <joint name="trashcan:trashcan:trashcan_origin_joint" type="fixed">
    <origin xyz="5.86 2.03 0.0" rpy="0.0 0.0 3.2"/>
    <parent link="urdf_offset"/>
    <child link="trashcan:trashcan:trashcan_origin"/>
  </joint>
  <joint name="trashcan:trashcan:center_joint" type="fixed">
    <origin xyz="0.19 0.0 0.49" rpy="0.0 0.0 0.0"/>
    <parent link="trashcan:trashcan:trashcan_origin"/>
    <child link="trashcan:trashcan:trashcan_center"/>
  </joint>
  <joint name="trashcan:trashcan:trashcan_front_edge_center_joint" type="fixed">
    <origin xyz="0.0 0.0 0.49" rpy="0.0 0.0 0.0"/>
    <parent link="trashcan:trashcan:trashcan_origin"/>
    <child link="trashcan:trashcan:trashcan_front_edge_center"/>
  </joint>
  <link name="urdf_main"/>
  <joint name="map_urdf_joint" type="fixed">
    <origin xyz="0.0 0.0 0.0" rpy="0.0 0.0 0.0"/>
    <parent link="urdf_main"/>
    <child link="urdf_offset"/>
  </joint>
  <link name="urdf_offset"/>
</robot>
